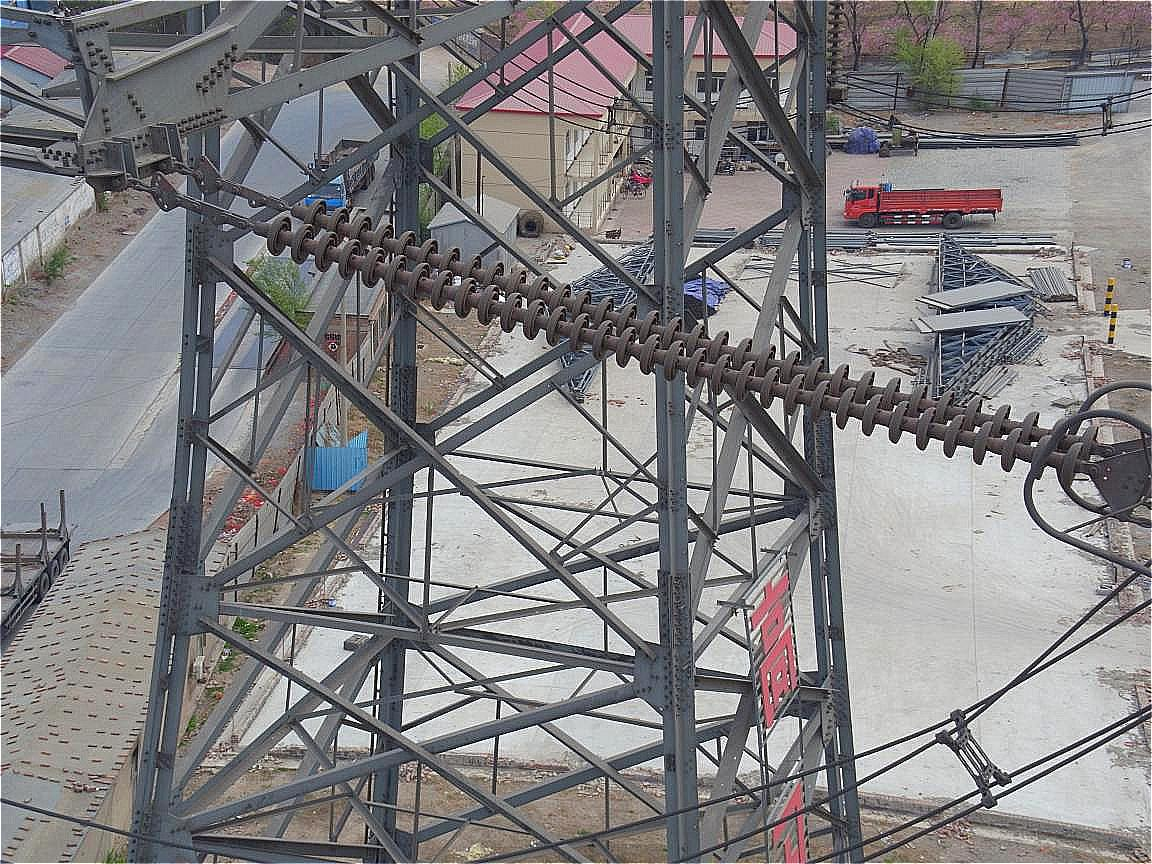insultor1: (250, 203, 1115, 497)
